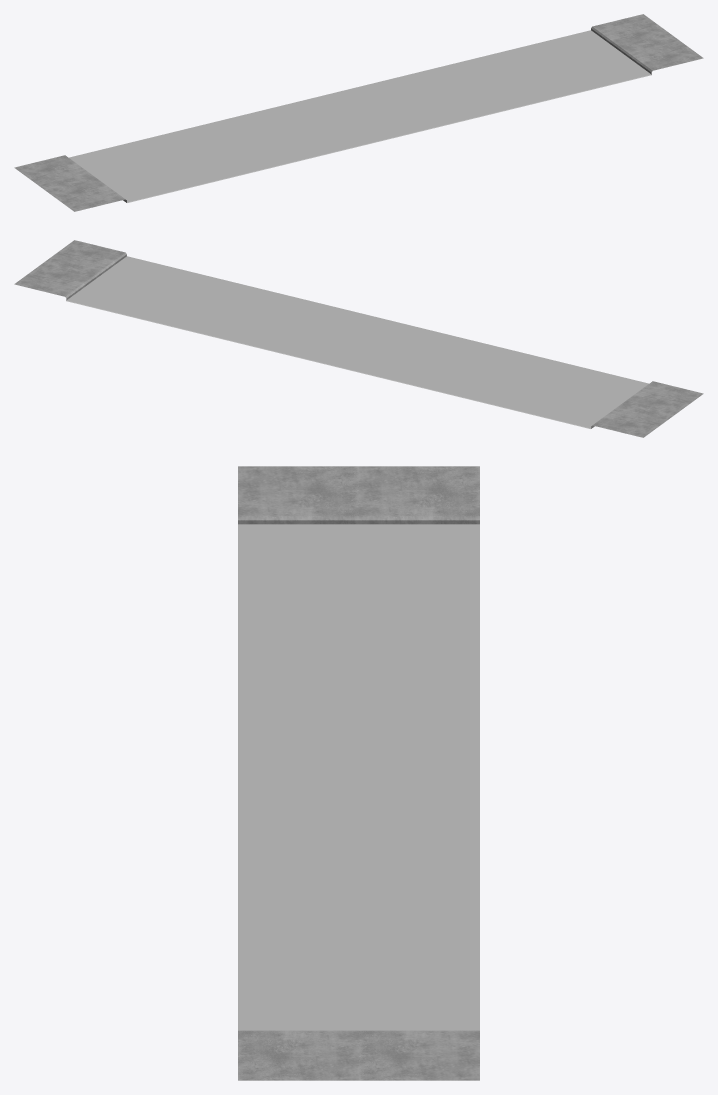
Rendered from RoadSection_2x1_Empty_p (3).fbx.
3 views of the same model, one above another, from view 1: azimuth 30°, elevation 25°; view 2: azimuth 150°, elevation 25°; view 3: azimuth 270°, elevation 25° (orthographic). The views are drawn at different scales.
Parts seen in each view (by area): view 1: Plane, RoadSection_2x1_Empty_p__3_; view 2: Plane, RoadSection_2x1_Empty_p__3_; view 3: Plane, RoadSection_2x1_Empty_p__3_.
Boxes of the visible parts, box(x1,y1,x2,y2) form: Plane: box(69, 30, 650, 202); RoadSection_2x1_Empty_p__3_: box(14, 14, 703, 211); Plane: box(67, 256, 648, 428); RoadSection_2x1_Empty_p__3_: box(14, 240, 703, 437); Plane: box(238, 524, 479, 1030); RoadSection_2x1_Empty_p__3_: box(238, 466, 479, 1080).
Bounding box in the file's own units: 9600 × 60 × 1600.
